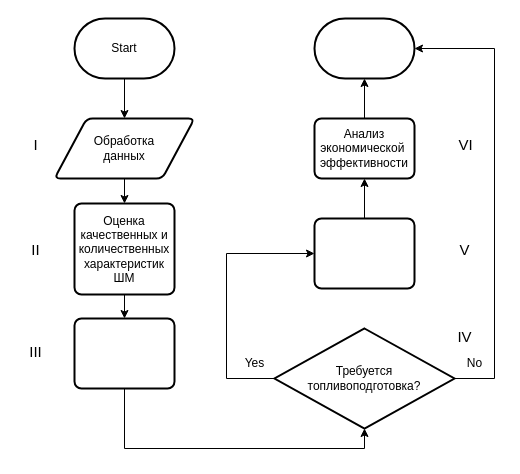
Image size: 520x474. Some labels were removed from this diagram. The shapes that lost their labels are listed below. From the top down, each one's centre as x and y in pixels, then its label:
(x=364, y=48): Finish
(x=364, y=253): Расчет ГПГУ
(x=124, y=353): Оценка количества энергии заключенной в ШМ
